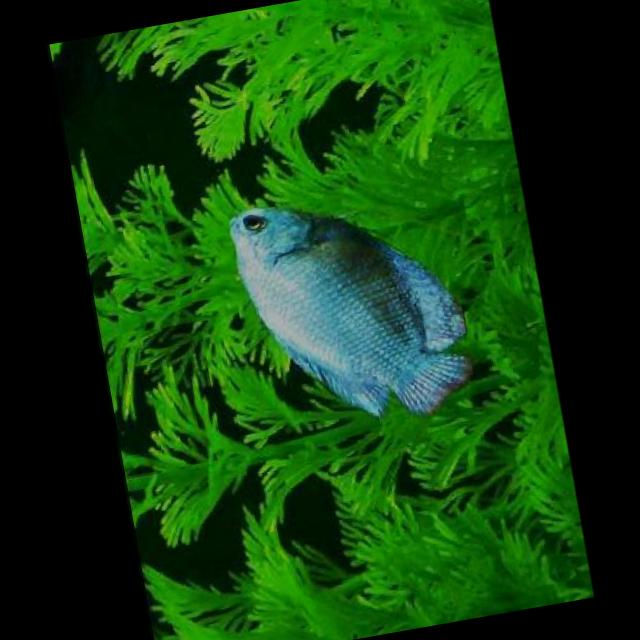Gourami: (223, 173, 479, 444)
